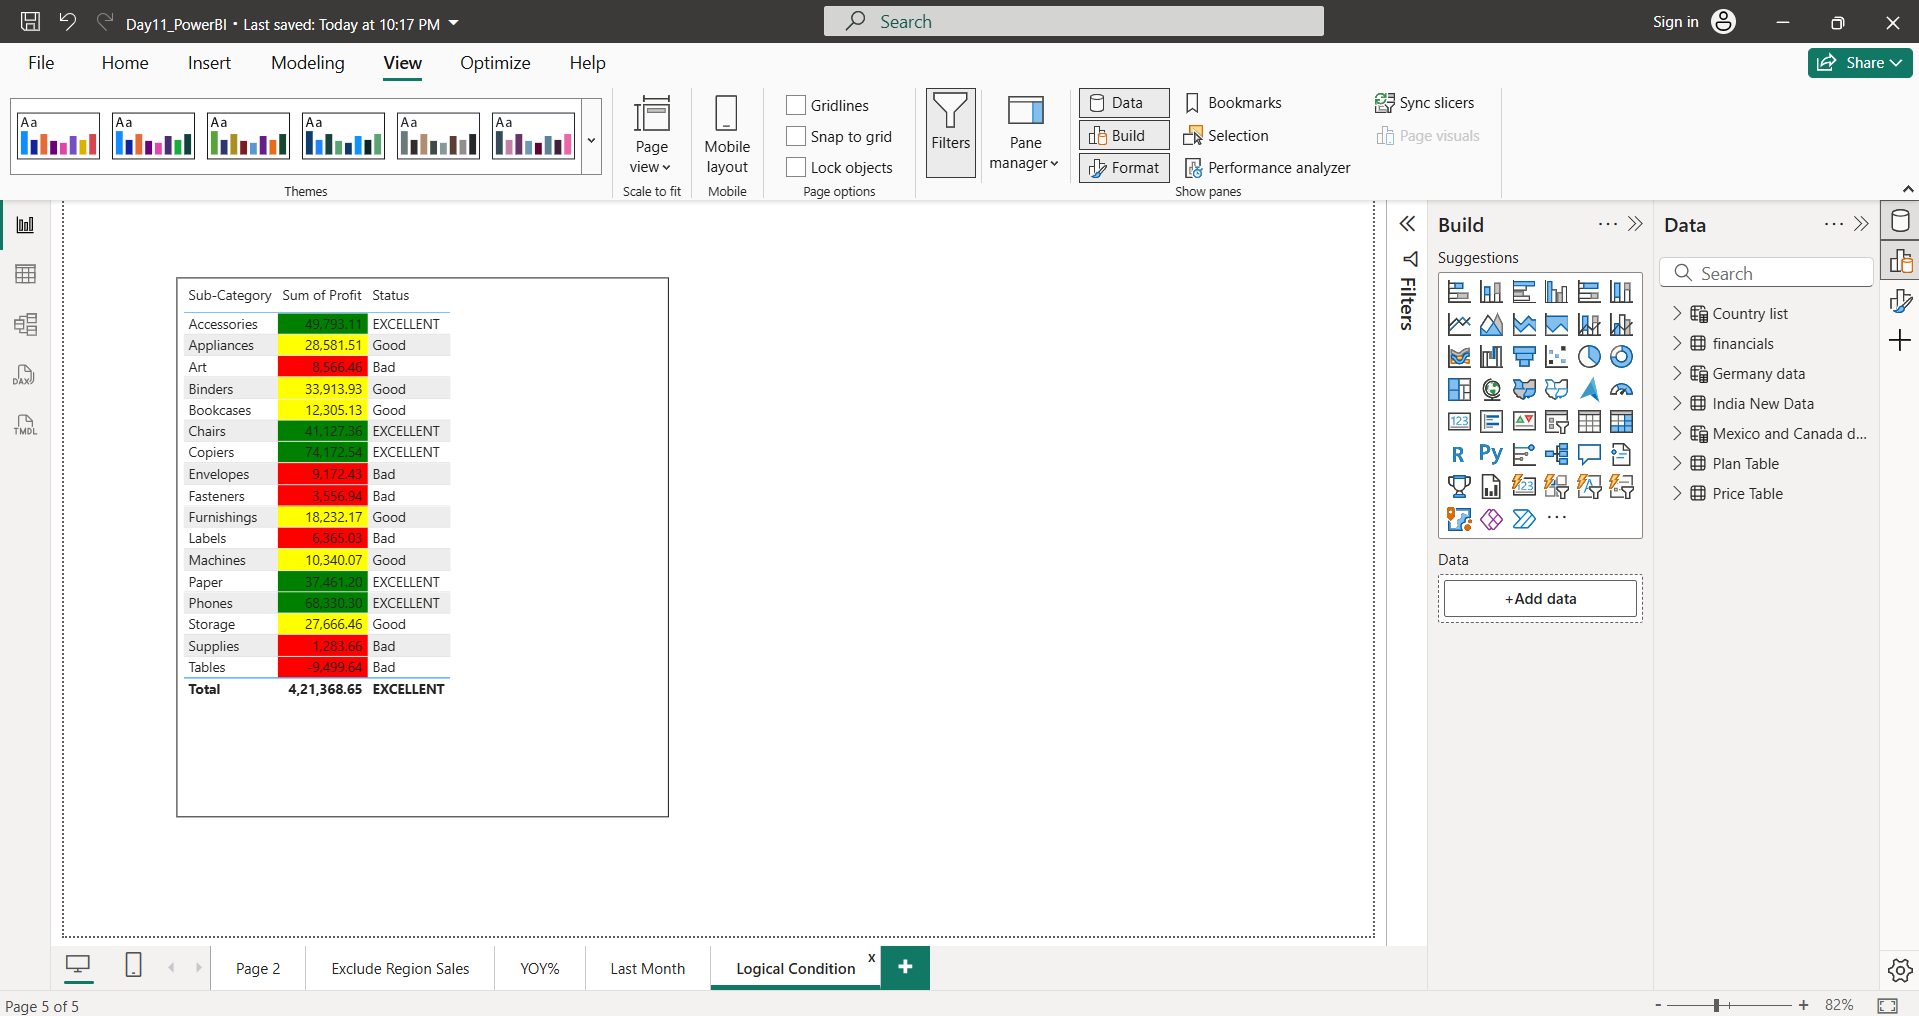

The dashboard page shown, as its layout file describes it:
{"tool":"powerbi","page":{"name":"Logical Condition","canvas":[1280,720],"ordinal":4},"visuals":[{"type":"tableEx","fields":{"Values":["India New Data.Sub-Category","Sum(India New Data.Profit)","India New Data.Status"]},"box":[110.1,75.8,481.8,528.3],"z":0}]}

Visuals, with their boxes on the page's 1280x720 design canvas (x1, y1, x2, y2). These are canvas units, not pixel positions in the 1919x1016 screenshot, which may show the page scaled, cropped or inside an application window:
tableEx - India New Data.Sub-Category x Sum(India New Data.Profit): [110, 76, 592, 604]
